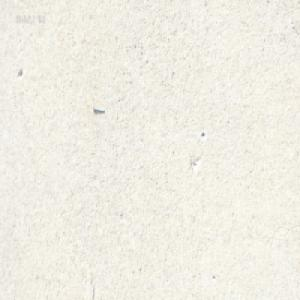Nail: (91, 104, 104, 112)
